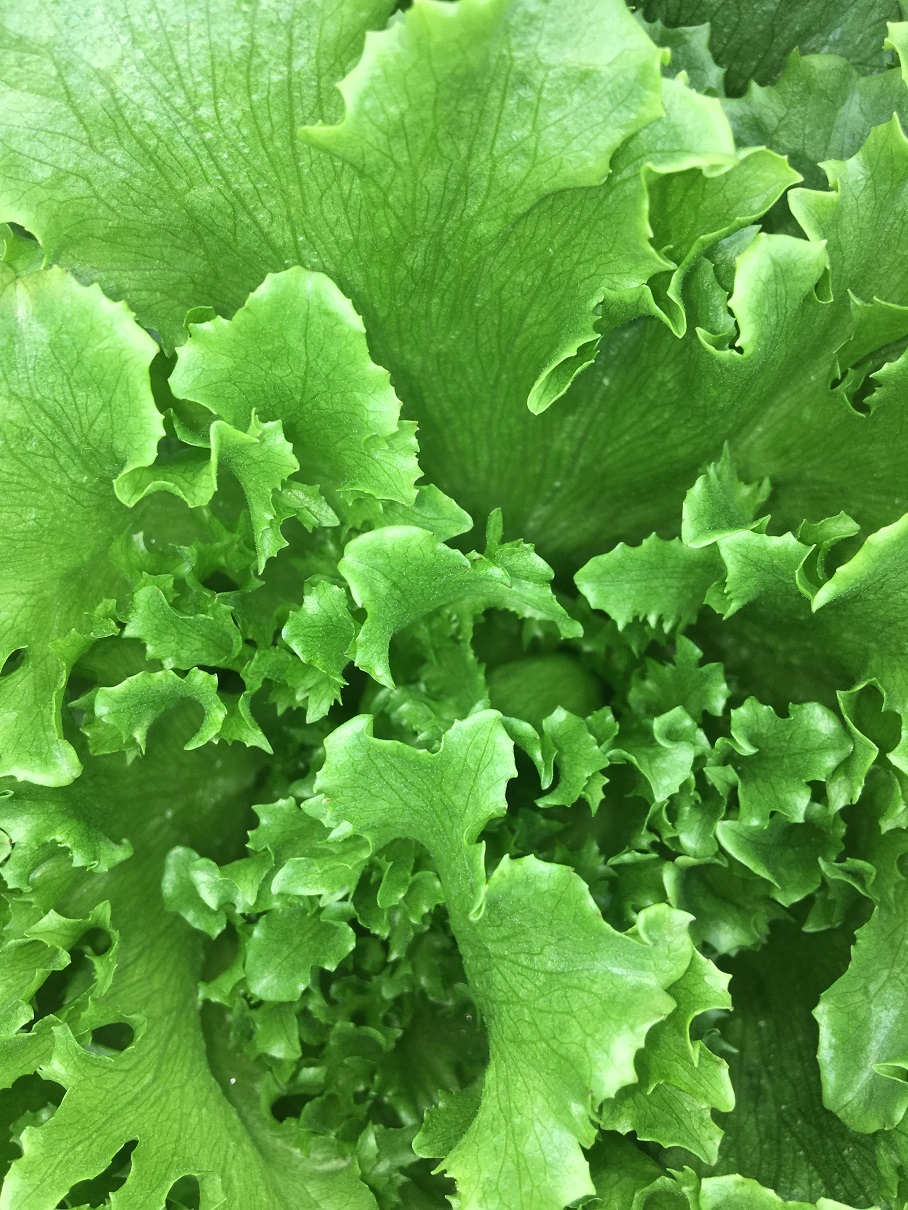tipburn: (449, 542, 502, 583)
